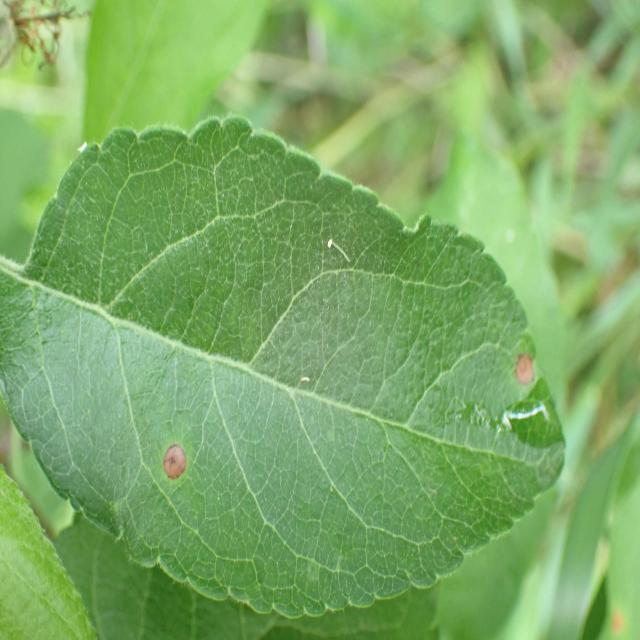Black Rot: (489, 322, 565, 420), (132, 419, 206, 508)
